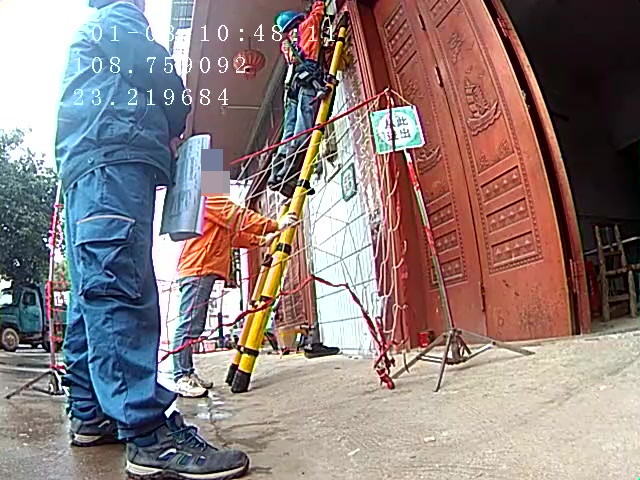downcloth: (172, 277, 218, 368), (278, 86, 319, 173)
downsuit: (55, 159, 170, 441)
halt: (199, 156, 231, 194), (274, 6, 303, 29)
intosign: (372, 105, 424, 155)
person: (53, 1, 202, 476), (181, 151, 251, 399), (263, 3, 329, 197)
shoe: (268, 143, 315, 195)
support: (163, 157, 300, 399)
upsuit: (54, 2, 188, 167)
wglove: (274, 210, 300, 228)
worksign: (337, 169, 355, 199)
yupsuit: (175, 195, 272, 275), (281, 1, 325, 70)
